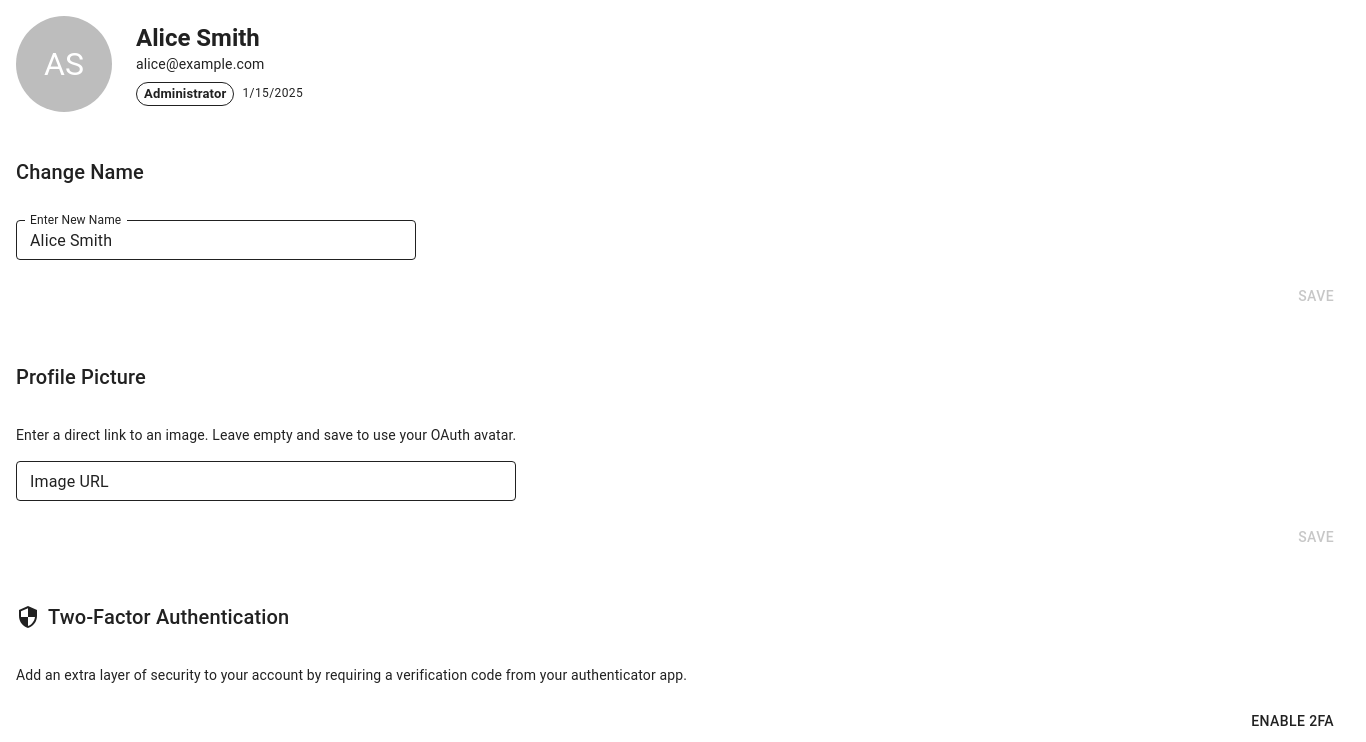
it: ProfileEditor › shows error when image update fails
Type "bad-url" into the field labelled "Image URL" at (266, 480), box [16,460,516,500]
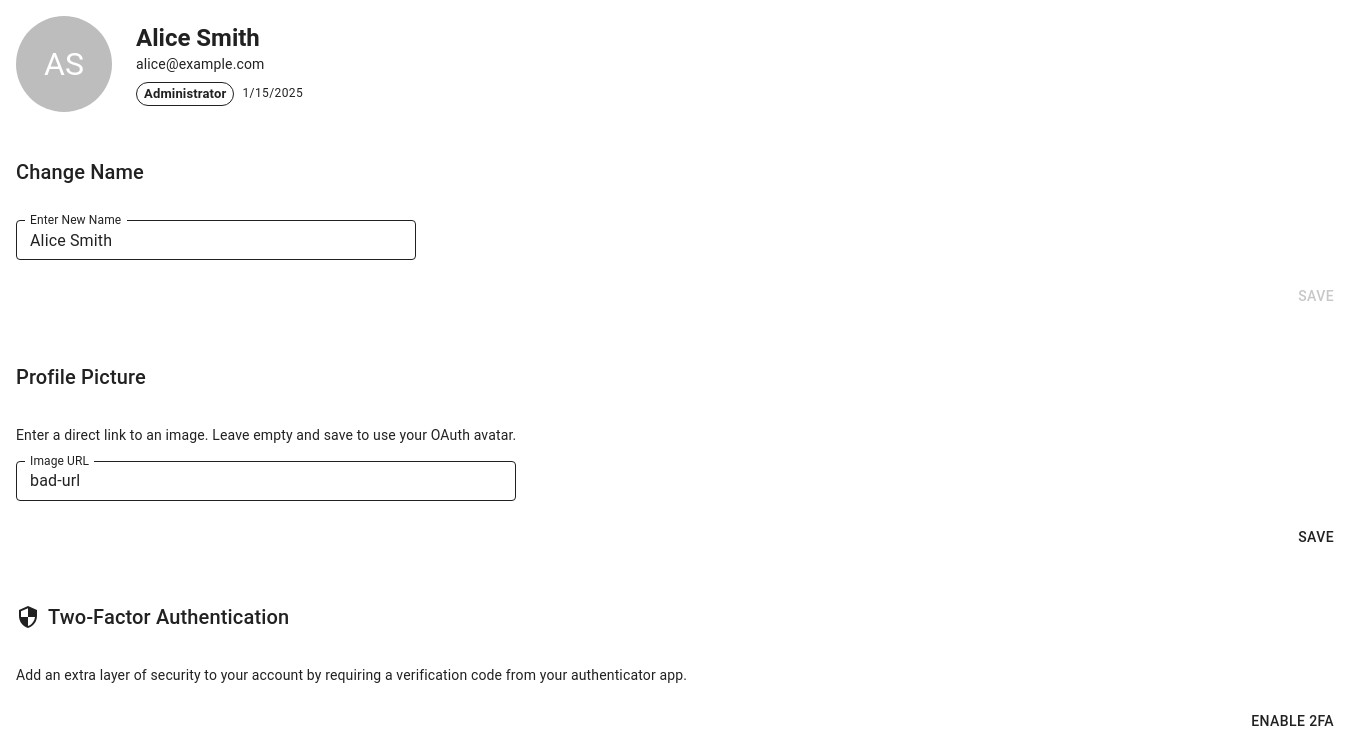
Click the 2nd button "Save" at (1316, 537), box [1282,516,1350,557]
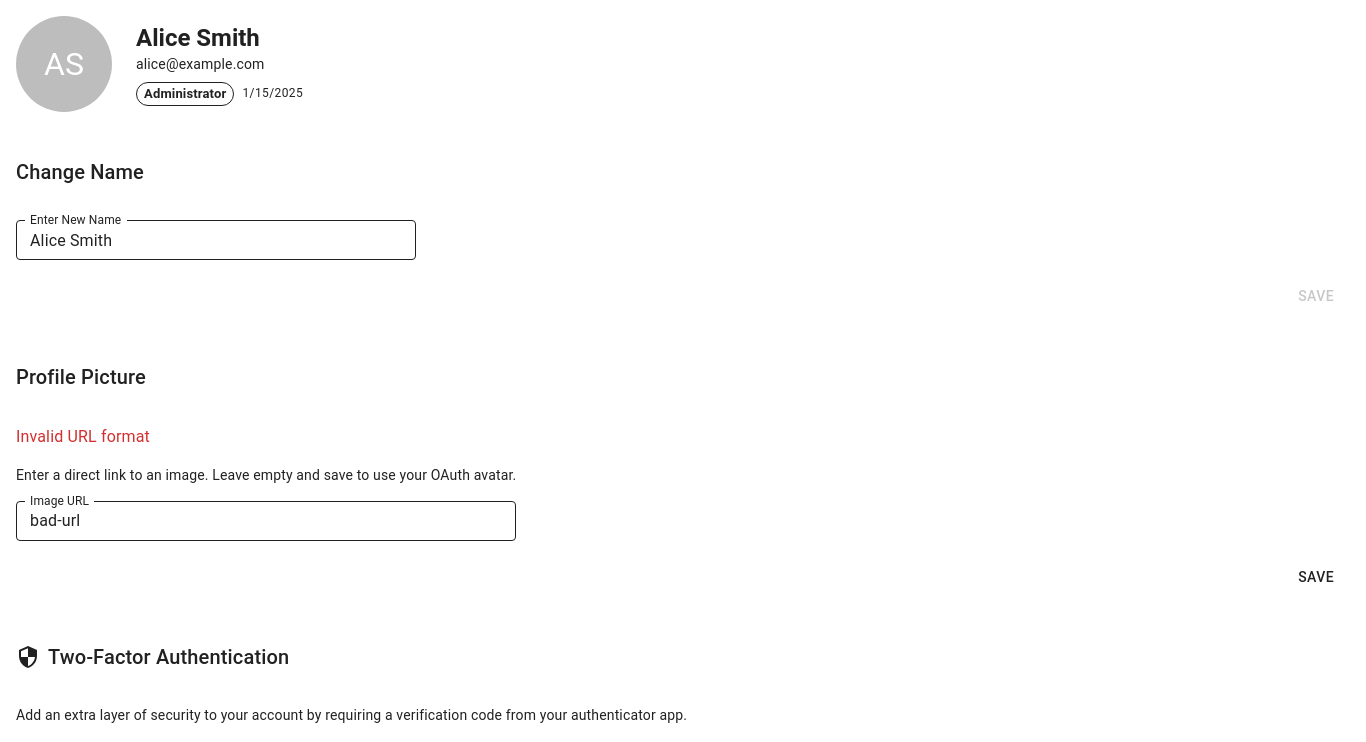
Now the text "Invalid URL format" is shown, box [16,426,150,446]
